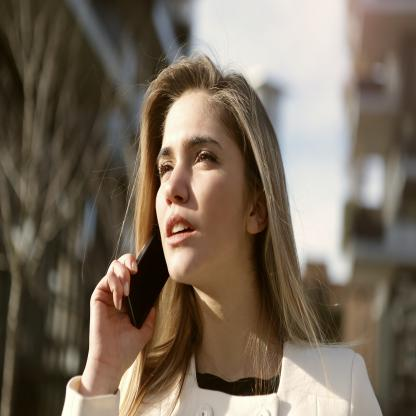Eye: (194, 149, 220, 167), (159, 162, 175, 182)
Mouth: (166, 213, 196, 245)
Nose: (164, 159, 191, 209)
